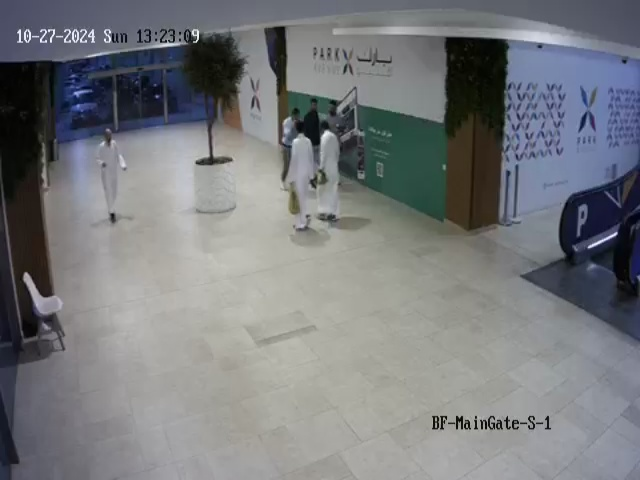male: (285, 122, 315, 232), (95, 128, 128, 224), (316, 120, 341, 222), (280, 107, 301, 190), (303, 98, 321, 147)
